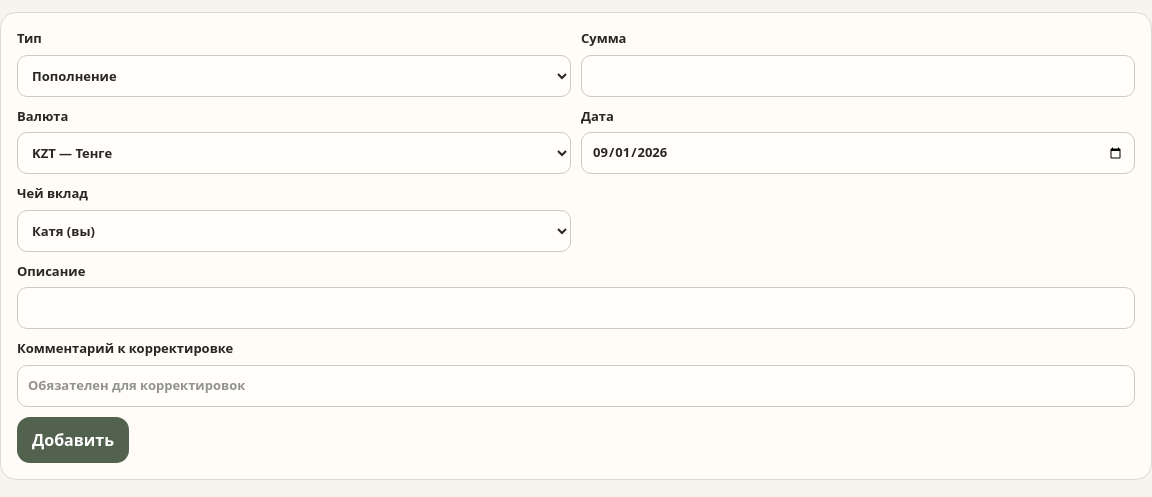
Test: manual entry forms › confirms a saved savings entry next to the button and clears the amount
Type "25000" into the field labelled "Сумма" at (858, 76), box [581, 54, 1135, 96]
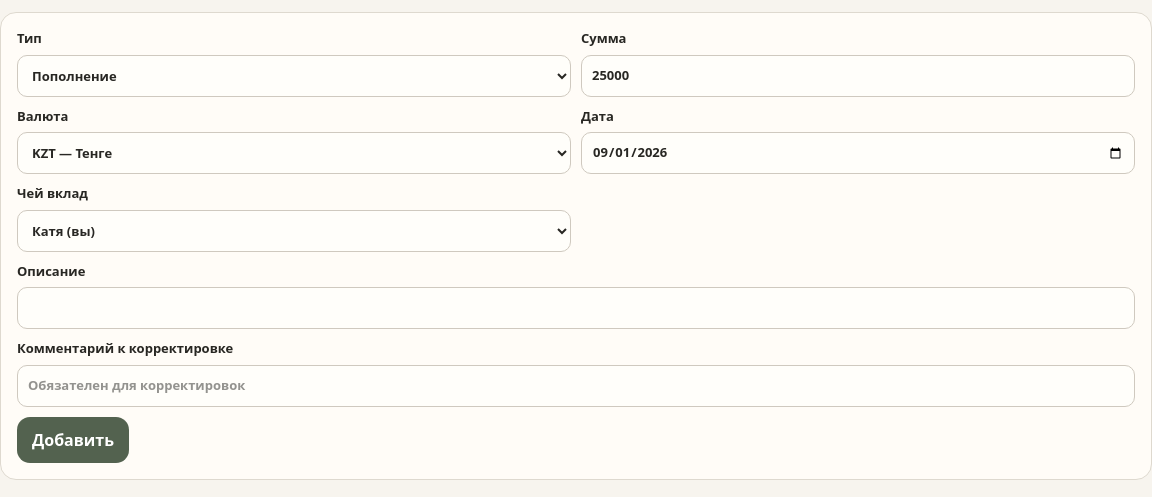
Click the button "Добавить" at (73, 440), box [17, 416, 129, 462]
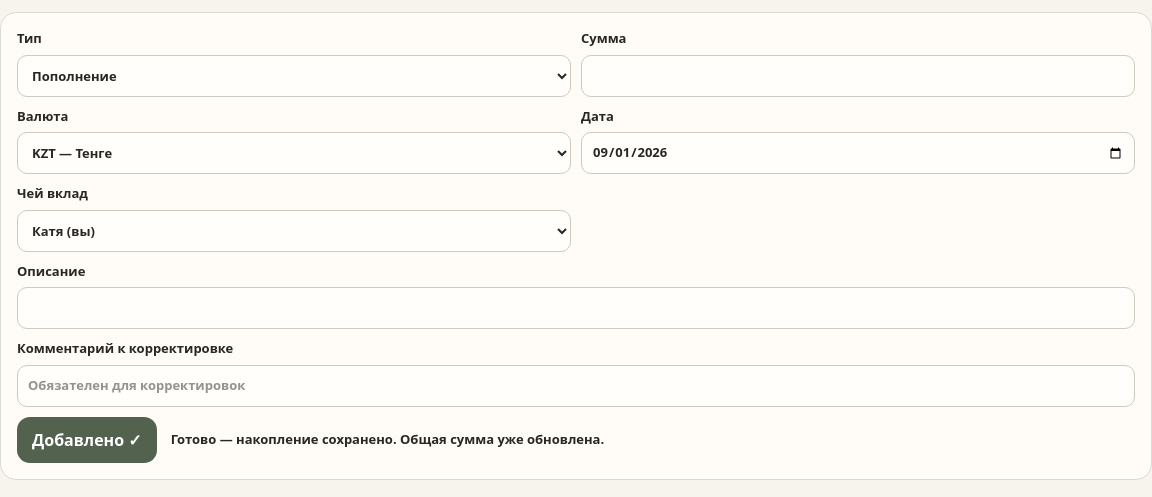
Result: the button "Добавлено ✓" is shown at [17, 416, 157, 462]
Result: the message shows "накопление сохранено" at [171, 430, 604, 448]
Result: the field labelled "Сумма" is empty at [581, 54, 1135, 96]
Type "Следующее пополнение" into the field labelled "Описание" at (576, 308), box [17, 287, 1135, 329]
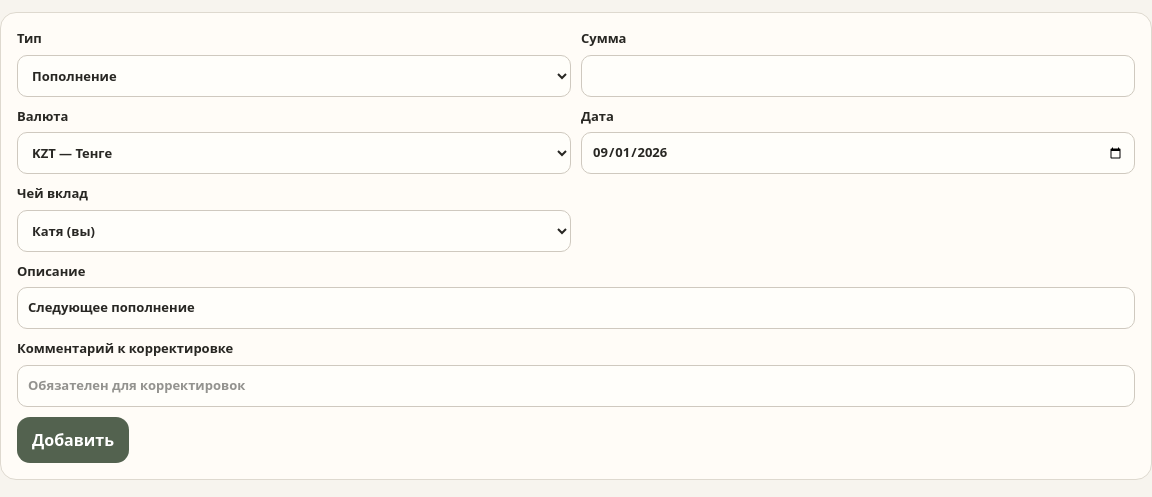
Result: the message "Готово — накопление сохранено. Общая сумма уже обновлена." is gone
Result: the button "Добавить" is shown at [17, 416, 129, 462]
